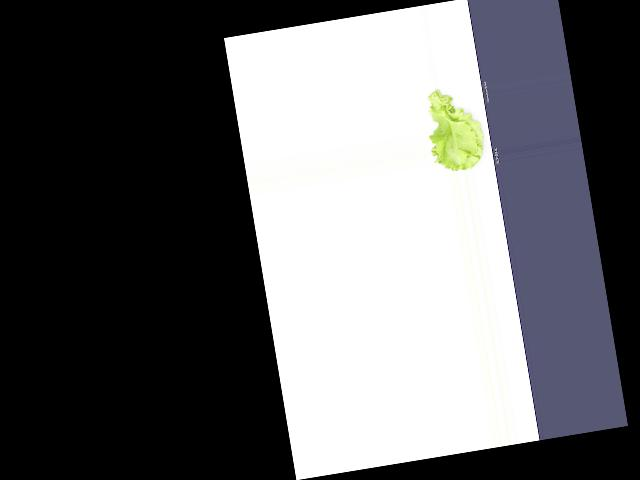lettuce: (421, 84, 492, 174)
